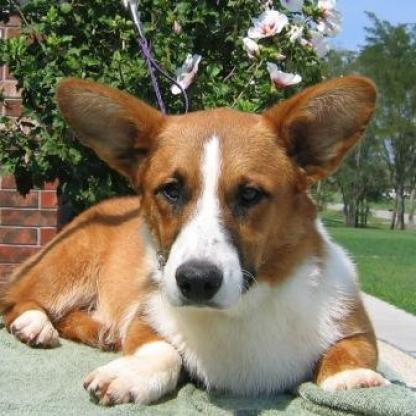Cardigan: (1, 74, 390, 406)
